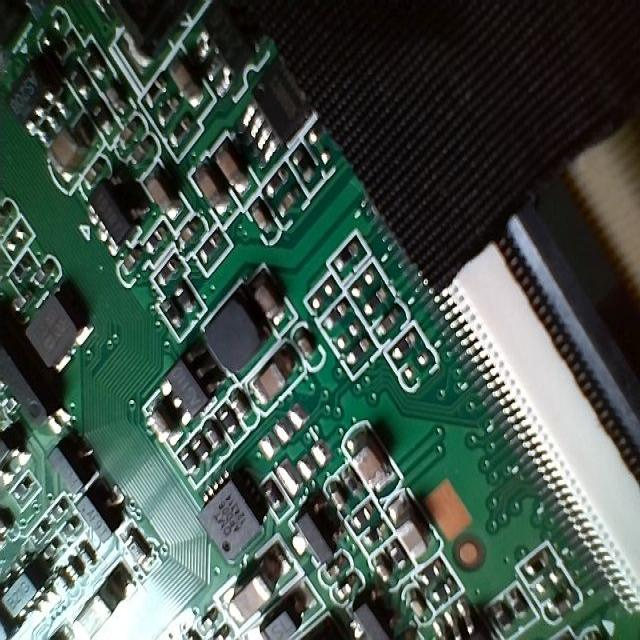capacitor: (381, 483, 452, 578), (345, 412, 405, 502), (247, 335, 297, 411)
resistor: (323, 222, 376, 282), (514, 538, 562, 588), (153, 286, 190, 337), (291, 136, 321, 192)
